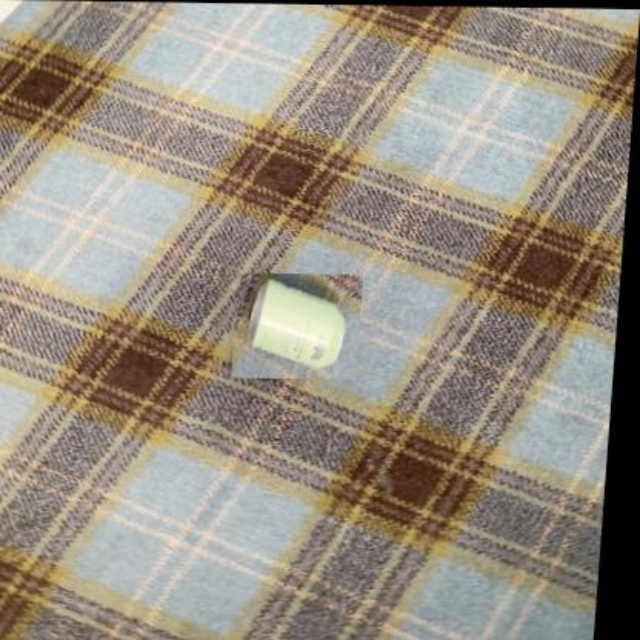trash: (248, 278, 343, 368)
